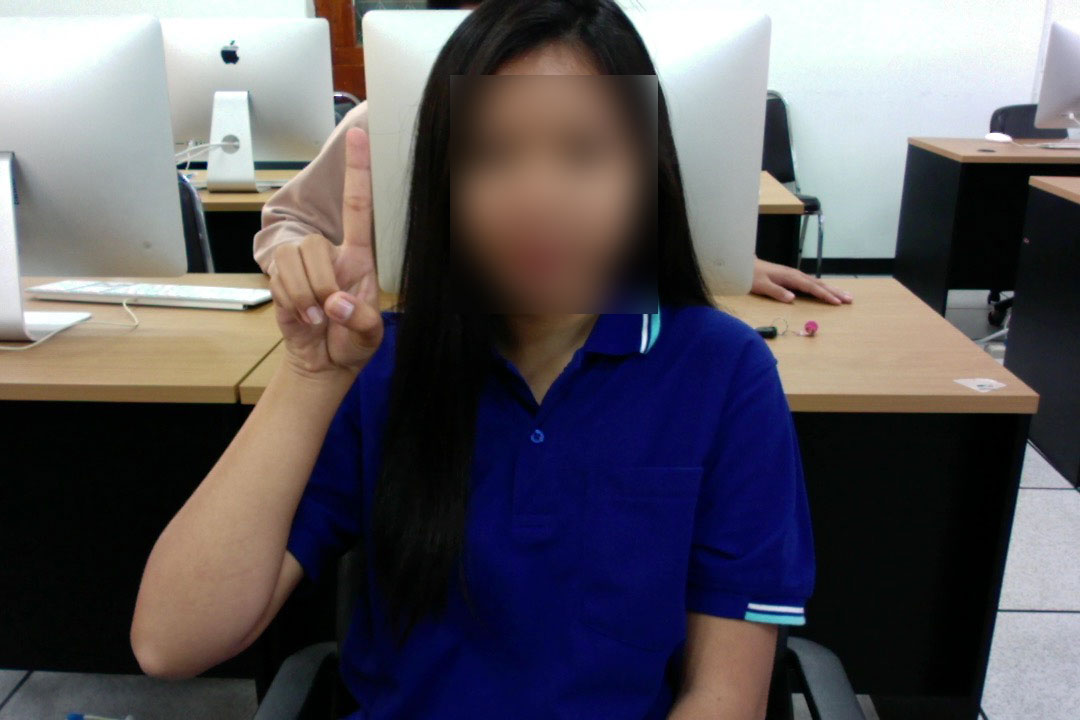dor: (267, 122, 391, 375)
